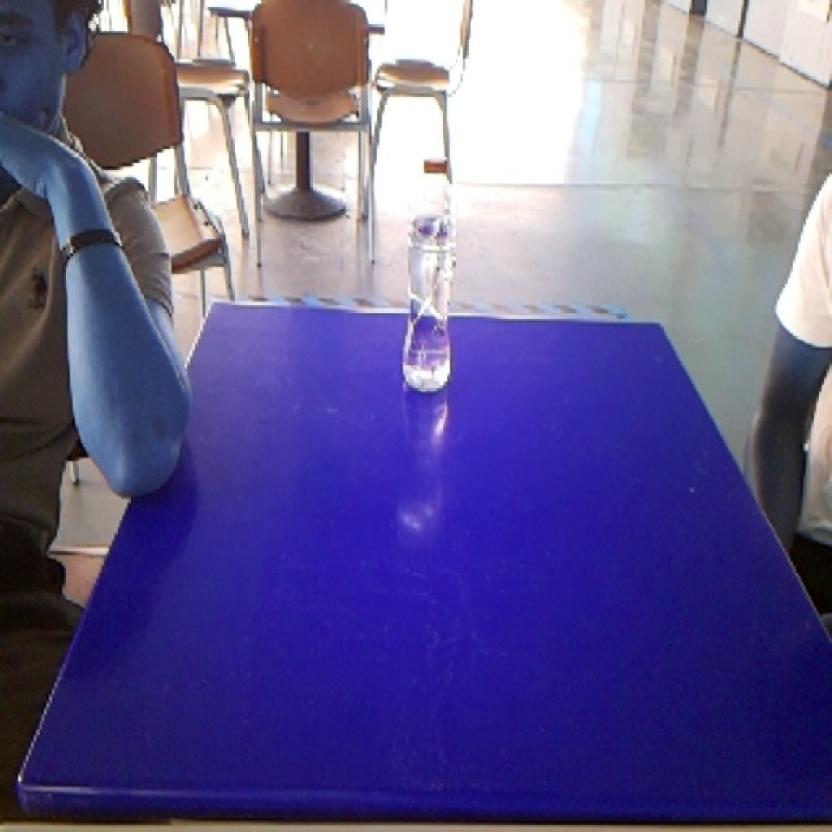no_label: (396, 148, 464, 398)
